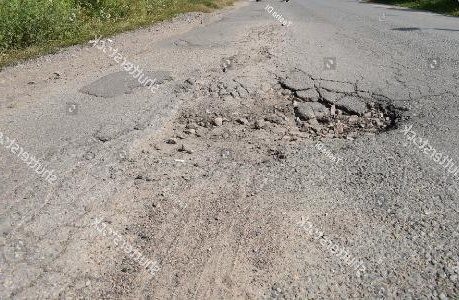pothole: (279, 75, 408, 140)
